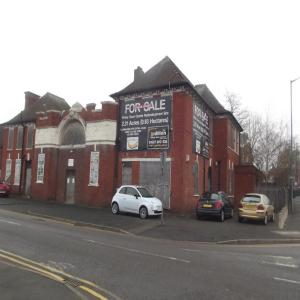Vehicle-registration-plate: (204, 204, 213, 209)
